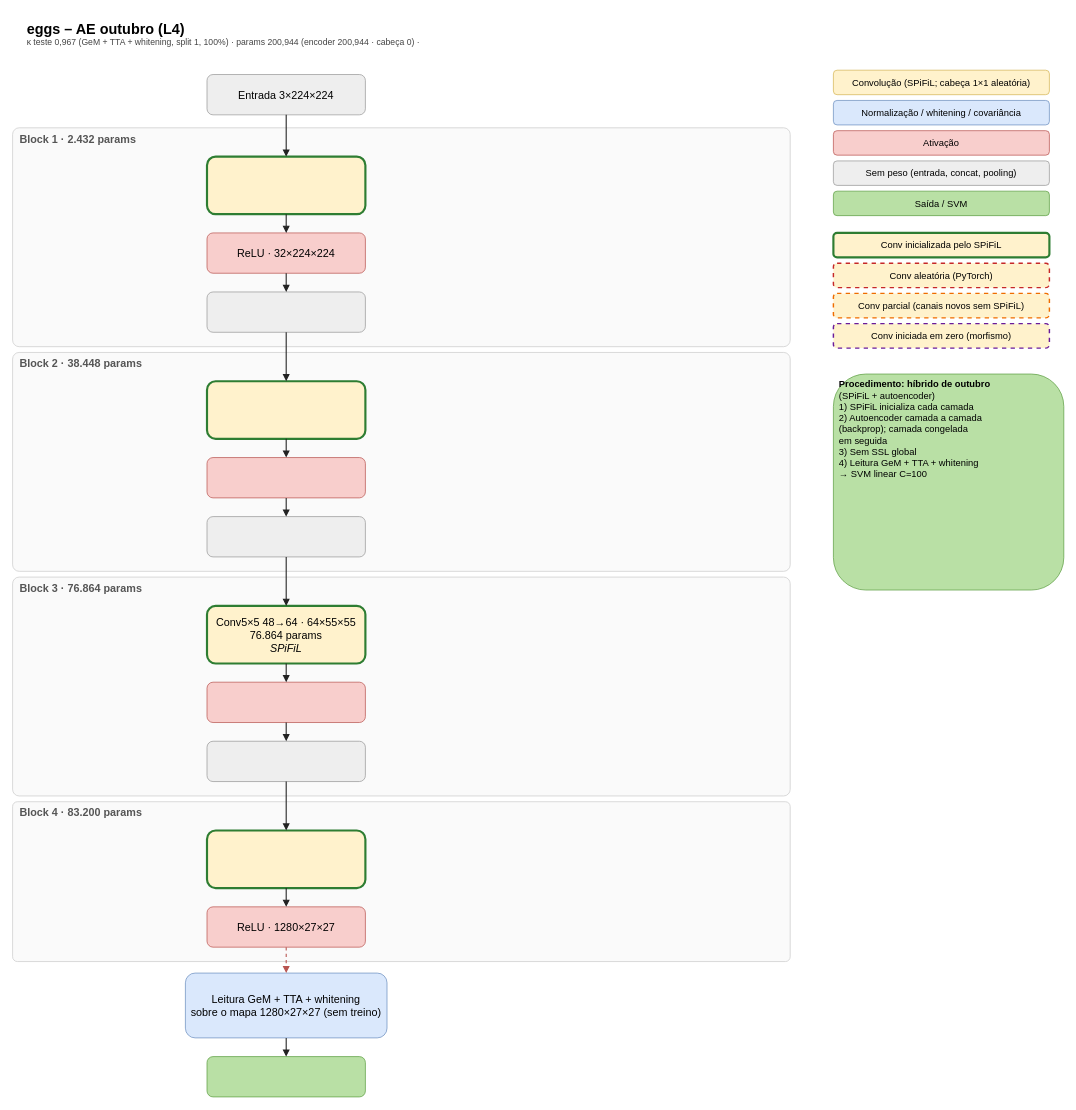
Image size: 1076x1110. Some labels were removed from this diagram. Each missing label, with the centre of its shape:
"Conv1×1 64→1280 · 1280×27×27 83.200 params SPiFiL" goes at point 286,859.
"Conv5×5 32→48 · 48×111×111 38.448 params SPiFiL" goes at point 286,410.
"Conv5×5 3→32 · 32×224×224 2.432 params SPiFiL" goes at point 286,185.
"MaxPool 3×3 s2 · 32×111×111" goes at point 285,311.
"MaxPool 3×3 s2 · 48×55×55" goes at point 285,536.
"MaxPool 3×3 s2 · 64×27×27" goes at point 285,761.
"ReLU · 48×111×111" goes at point 285,477.
"ReLU · 64×55×55" goes at point 285,702.
"SVM linear C=100 (teste)" goes at point 285,1076.
